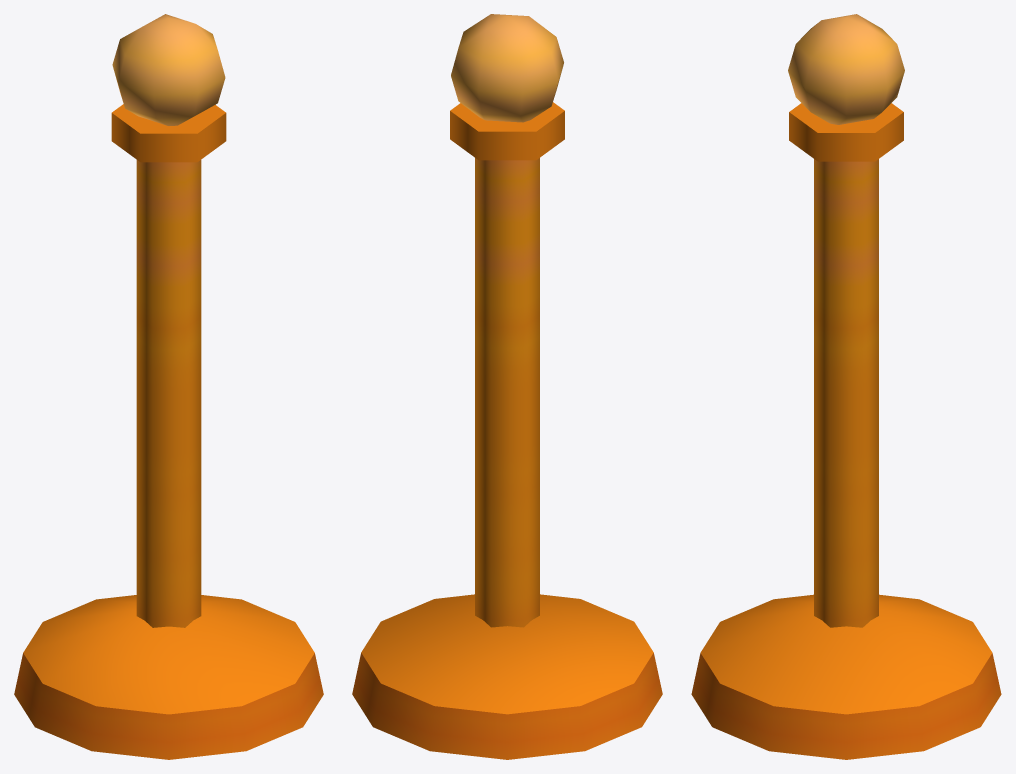
Rendered from fence-07.glb.
The picture shows the model from 3 angles, left to right: view 1: azimuth 30°, elevation 25°; view 2: azimuth 150°, elevation 25°; view 3: azimuth 270°, elevation 25°; orthographic projection.
Visible parts, largest first — view 1: Fence_07; view 2: Fence_07; view 3: Fence_07.
Part boxes in pixels (x1=…): Fence_07: x1=14, y1=14, x2=323, y2=759; Fence_07: x1=352, y1=14, x2=662, y2=759; Fence_07: x1=691, y1=14, x2=1001, y2=759.
Bounding box in the file's own units: 0.4254 × 1.02 × 0.4254.
1 material, 1 textured.
